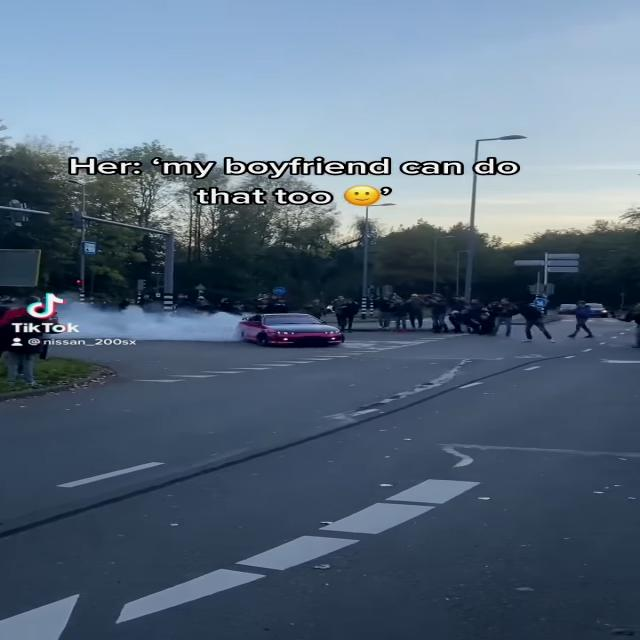car: (237, 312, 349, 349)
